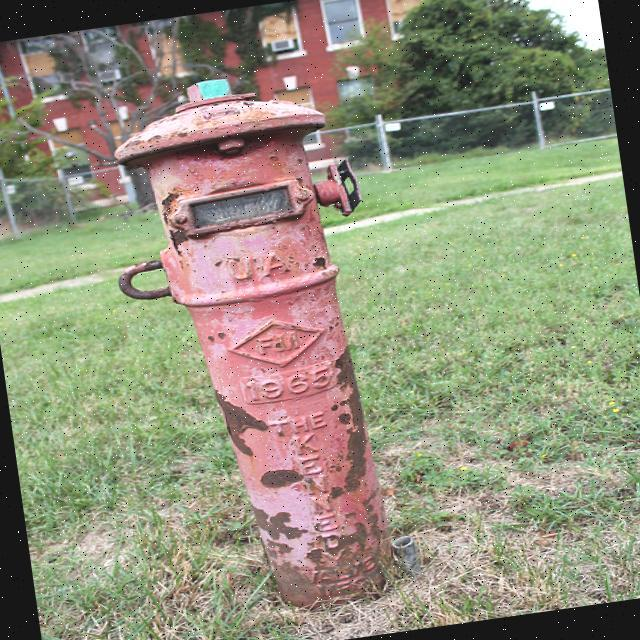fire_hydrant: (96, 59, 423, 632)
